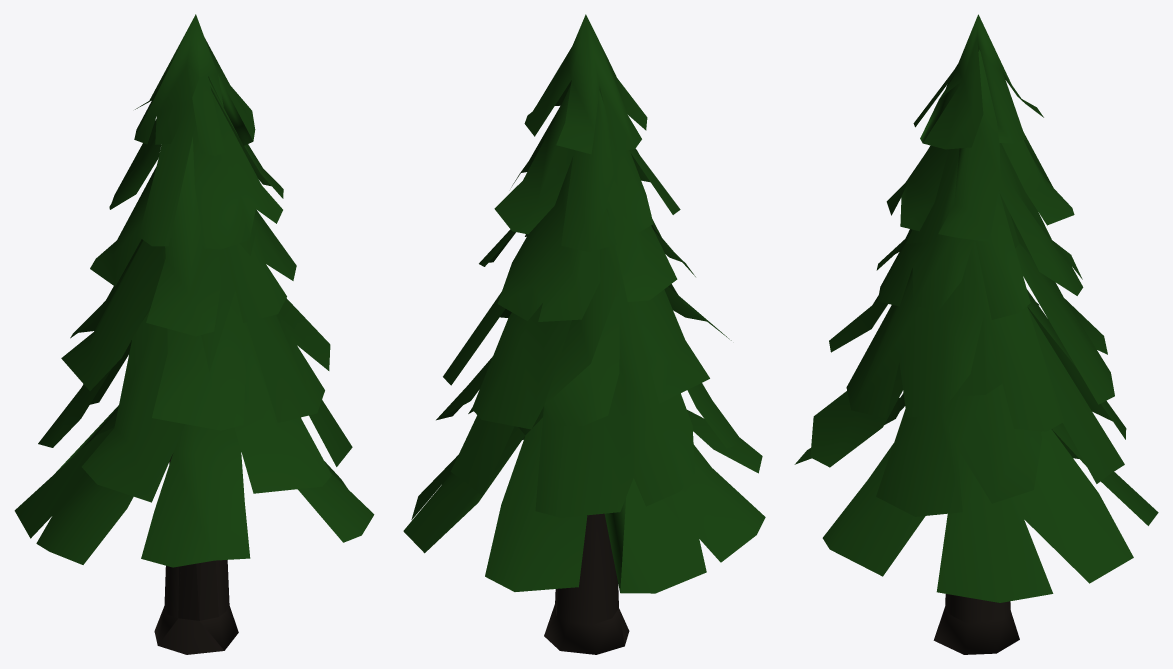
File: treeTest.obj
The picture shows the model from 3 angles, left to right: view 1: azimuth 30°, elevation 25°; view 2: azimuth 150°, elevation 25°; view 3: azimuth 270°, elevation 25°; orthographic projection.
Parts seen in each view (by area): view 1: Cone.003_Cone.008; view 2: Cone.003_Cone.008; view 3: Cone.003_Cone.008.
Boxes of the visible parts, box(x1,y1,x2,y2) form: Cone.003_Cone.008: box(14, 14, 374, 654); Cone.003_Cone.008: box(403, 14, 765, 654); Cone.003_Cone.008: box(794, 14, 1158, 654).
Size of the model in its own units: 4.3 by 8.12 by 4.3.
